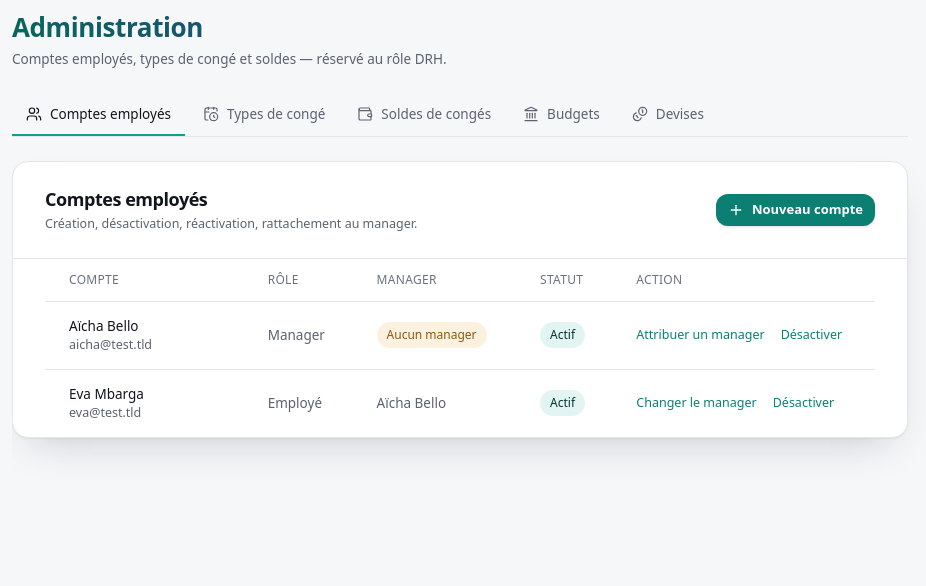
AdminPage — onglet Comptes : manager › affiche le refus du serveur (ex. boucle hierarchique) sans fermer l'edition
The image size is (926, 586).
Expected: the text "Eva Mbarga" is shown, [69,384,144,402]
Click the button with aria-label "changer le manager de eva": (696, 403) [636,394,757,412]
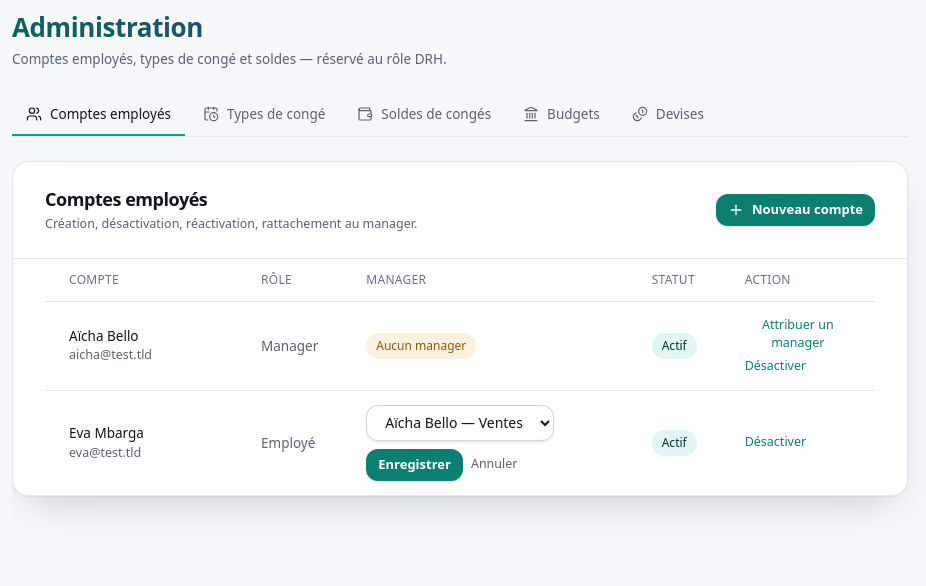
Select "Aucun manager" in the dropdown named "Manager de Eva Mbarga": (460, 423) [366,405,554,441]
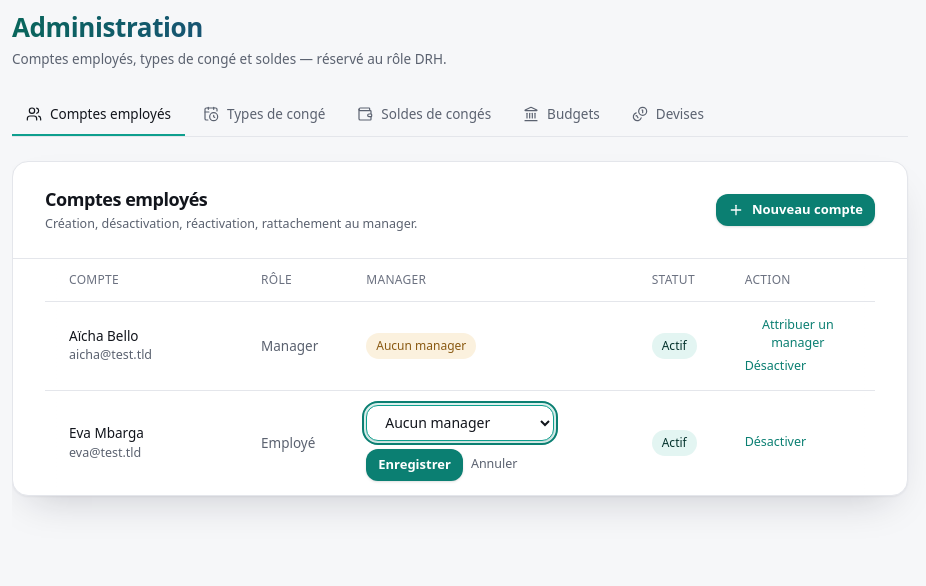
Click the button "Enregistrer": (415, 465) [366,449,463,481]
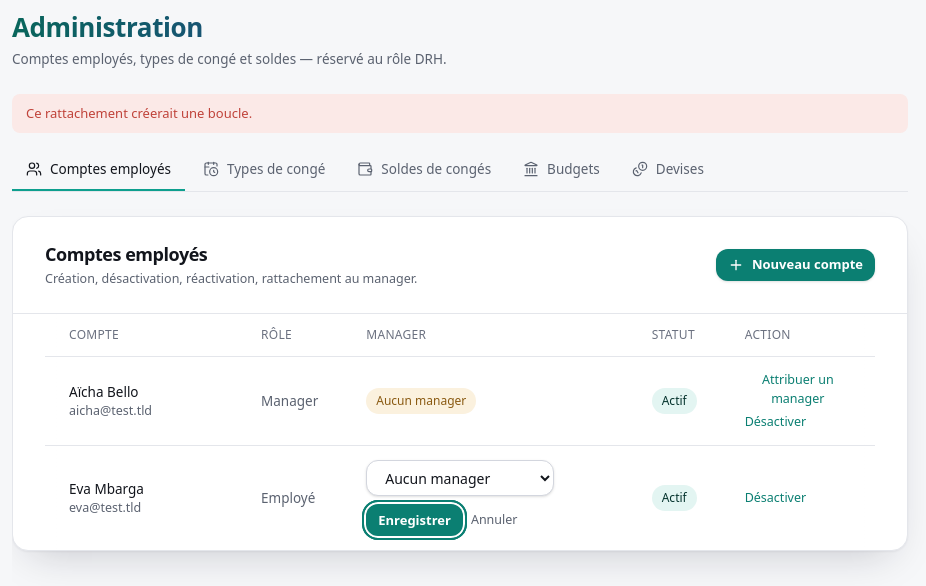
Result: the text "Ce rattachement créerait une boucle." is shown at [12,94,908,133]
